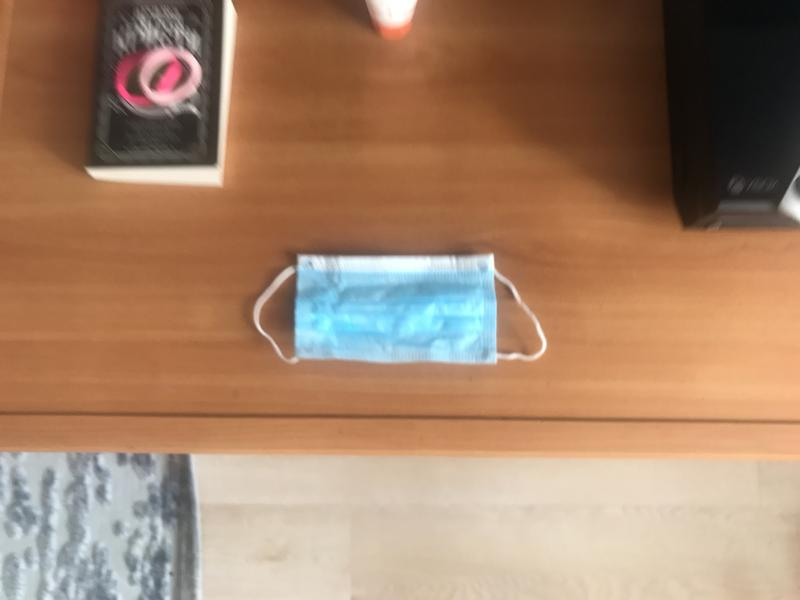medical_mask: (254, 251, 546, 364)
